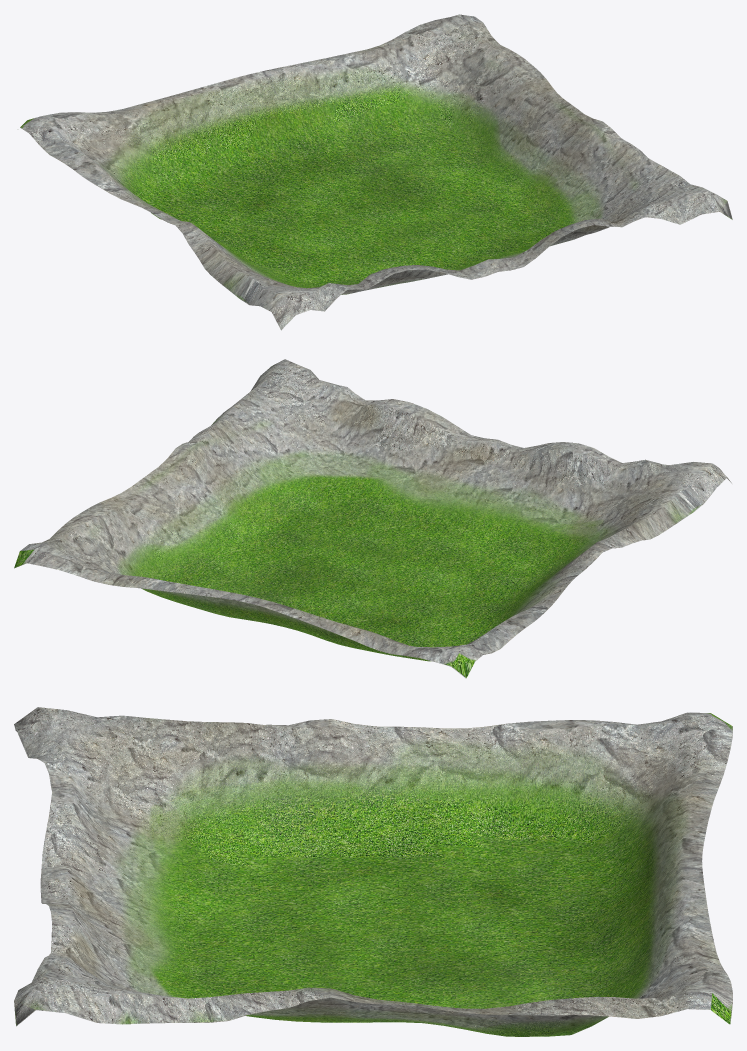
The model's file is Terrain1_ThePit.obj.
3 renders of one model, top to bottom at view 1: azimuth 30°, elevation 25°; view 2: azimuth 150°, elevation 25°; view 3: azimuth 270°, elevation 25°, orthographic. The views are drawn at different scales.
Parts seen in each view (by area): view 1: Plane; view 2: Plane; view 3: Plane.
Boxes of the visible parts, x1=… form: Plane: x1=20, y1=14, x2=732, y2=330; Plane: x1=14, y1=359, x2=731, y2=678; Plane: x1=14, y1=707, x2=732, y2=1036.
Size of the model in its own units: 12.49 by 1.79 by 12.72.
